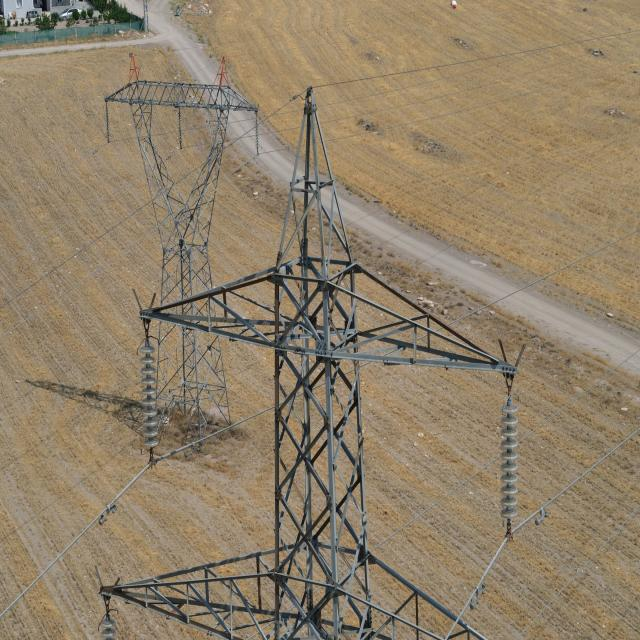direk: (150, 162, 494, 640), (113, 72, 254, 432)
